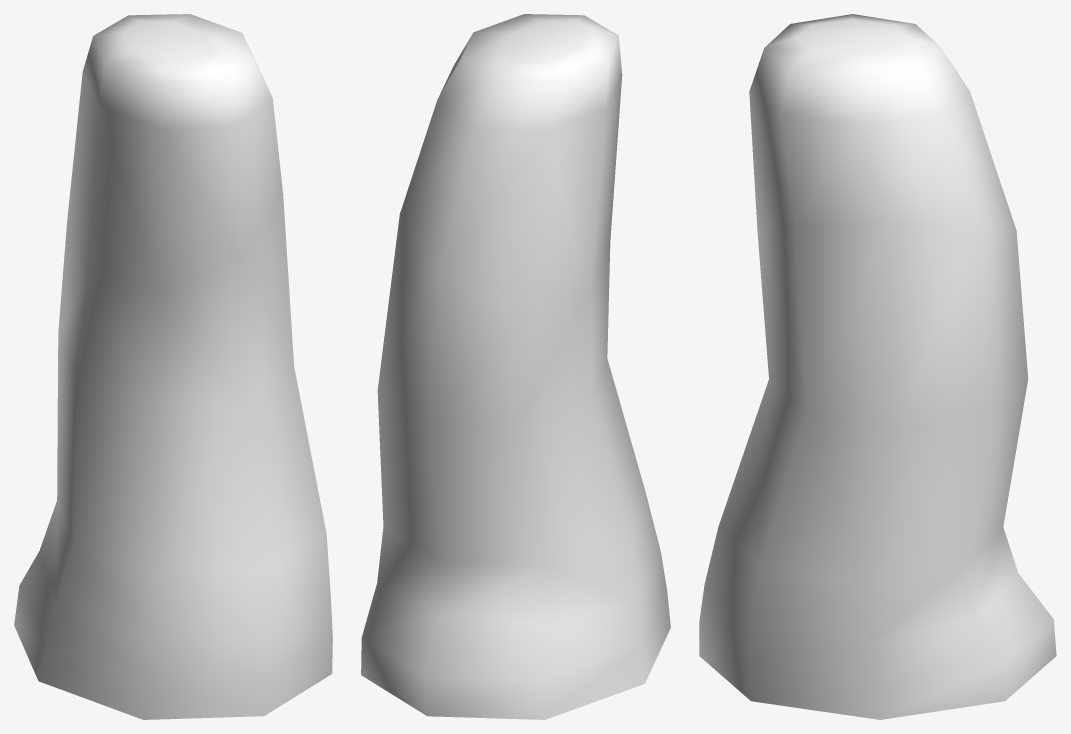
3 renders of one model, left to right at view 1: azimuth 30°, elevation 25°; view 2: azimuth 150°, elevation 25°; view 3: azimuth 270°, elevation 25°, orthographic. The views are drawn at different scales.
Visible parts, largest first — view 1: Mesh; view 2: Mesh; view 3: Mesh.
Part boxes in pixels (x1,y1,x2,y2): Mesh: (14,14,332,719); Mesh: (361,14,670,719); Mesh: (699,14,1056,719).
Size of the model in its own units: 0.9724 by 2.18 by 1.15.
